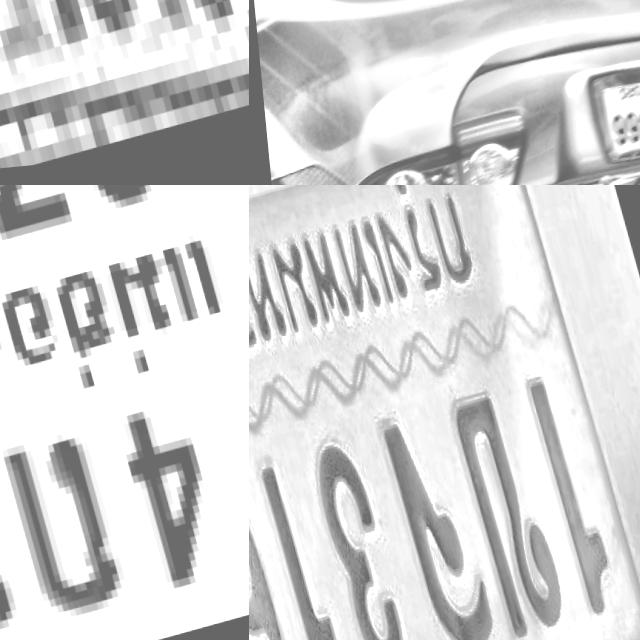license-plate: (249, 185, 640, 640), (0, 185, 249, 640), (0, 0, 249, 185), (574, 51, 640, 185)
